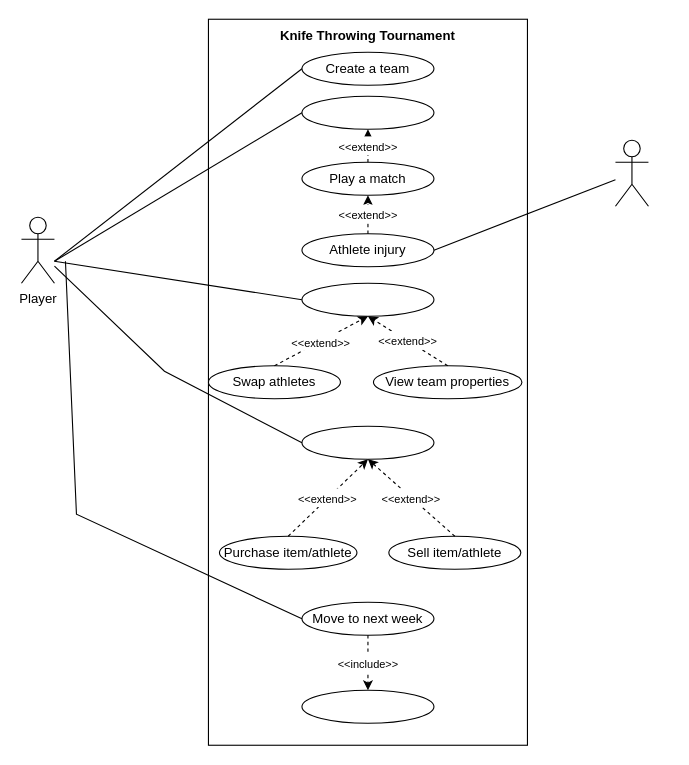
Some shapes in this 689 by 765 pixel diagram are drawn without their labels. The shapes that lost their labels are listed below. From the top down, each one's box as (x1, y1, x2, y2) in pixels, then its label:
(301, 95, 434, 129): Visit stadium
(614, 139, 648, 206): Enemy Team
(301, 282, 434, 316): Visit club
(301, 425, 434, 459): Visit market
(301, 689, 434, 723): Train athlete
